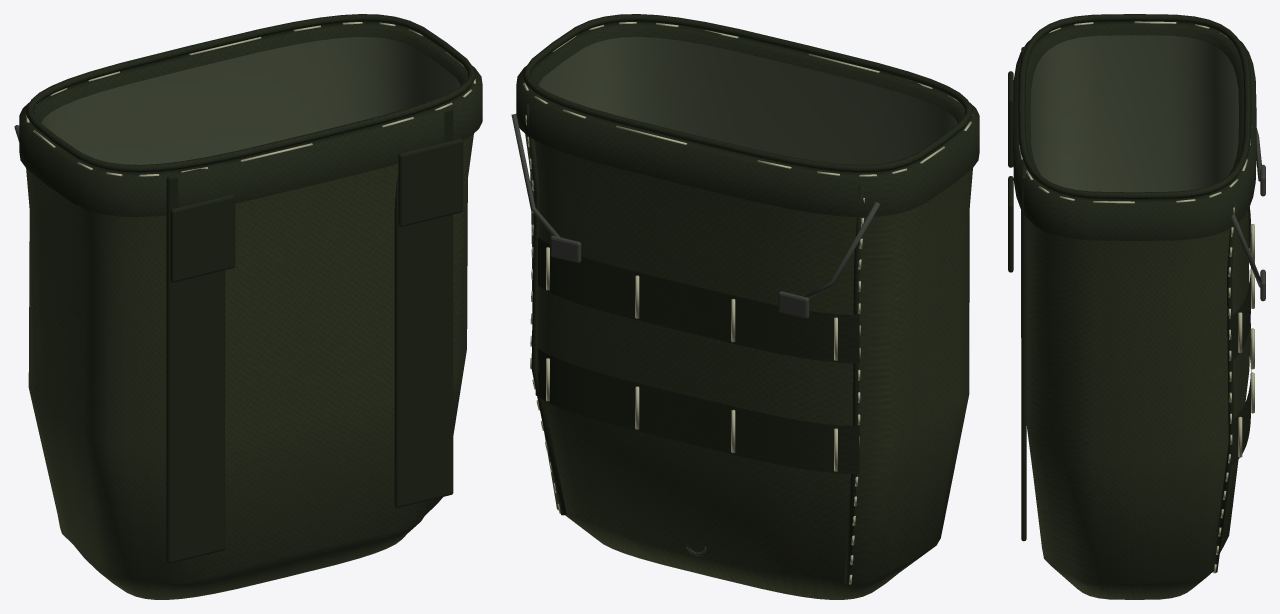
Rendered from magazine_pouch.glb.
The picture shows the model from 3 angles, left to right: view 1: azimuth 30°, elevation 25°; view 2: azimuth 150°, elevation 25°; view 3: azimuth 270°, elevation 25°; orthographic projection. The views are drawn at different scales.
Visible parts, largest first — view 1: MagazinePouch; view 2: MagazinePouch; view 3: MagazinePouch.
Part boxes in pixels (bbox=[...]): MagazinePouch: bbox=[14, 14, 482, 599]; MagazinePouch: bbox=[511, 14, 979, 599]; MagazinePouch: bbox=[1008, 14, 1265, 599].
Bounding box in the file's own units: 0.202 × 0.2195 × 0.1185.
5 materials, 2 textured.
